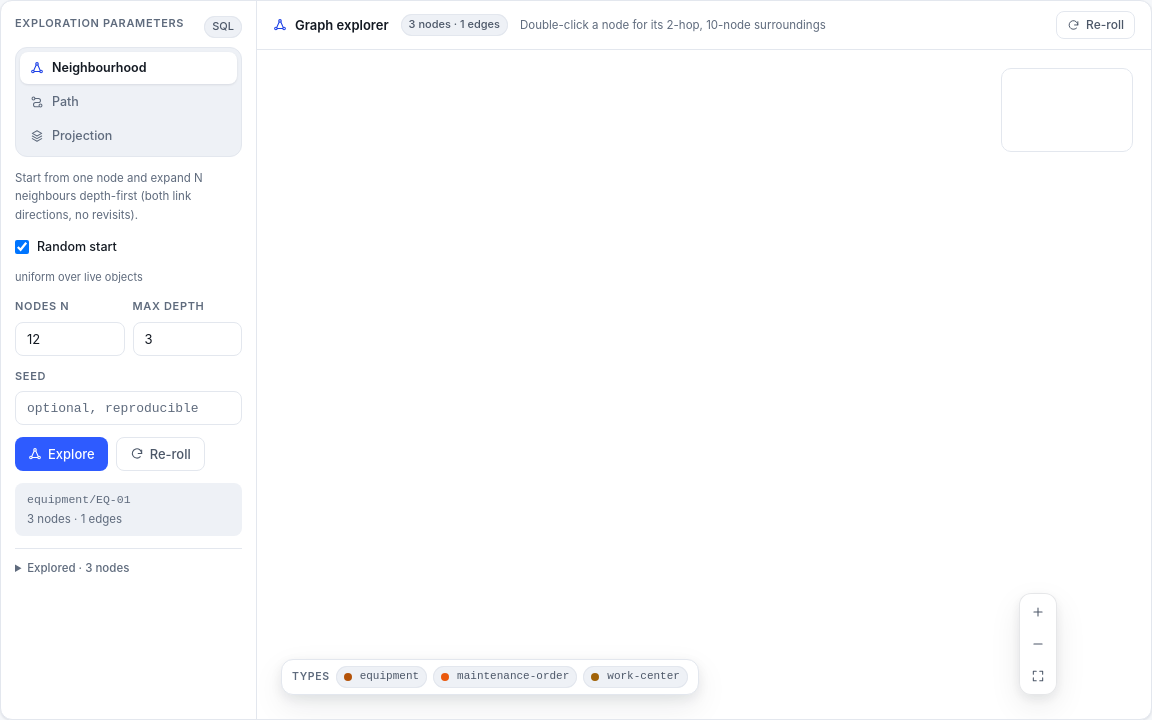
Test: GraphExplorer — explore mode › does not re-fetch the sample when leaving and returning to explore mode
Click the tab with test id "tab-path": coordinates (128, 102) left=20, top=86, right=237, bottom=118
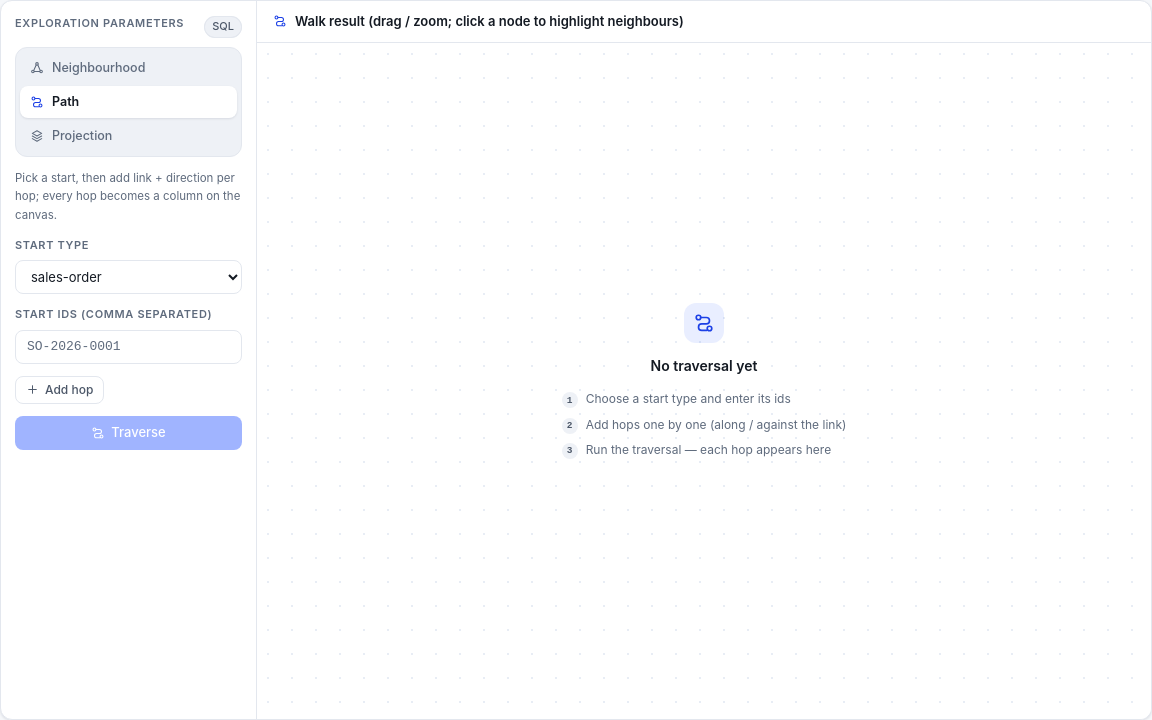
Click the tab with test id "tab-neighbourhood": coordinates (128, 68) left=20, top=52, right=237, bottom=84
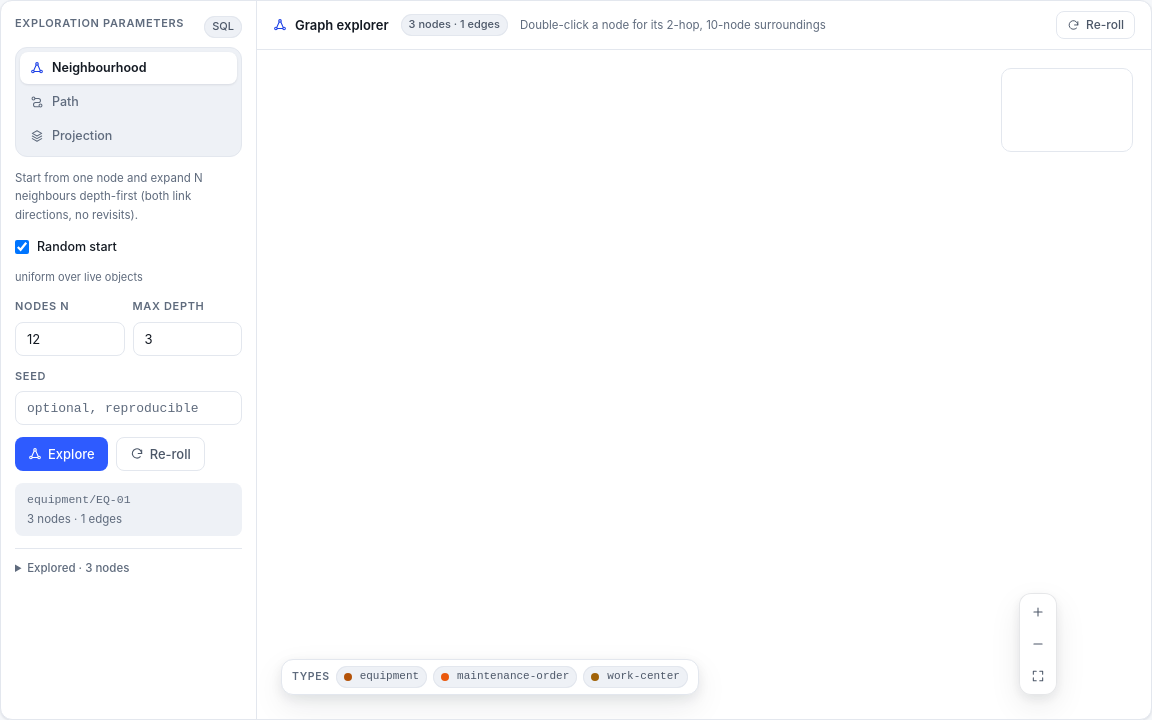
expect the element with test id "explore-result" is shown: met
